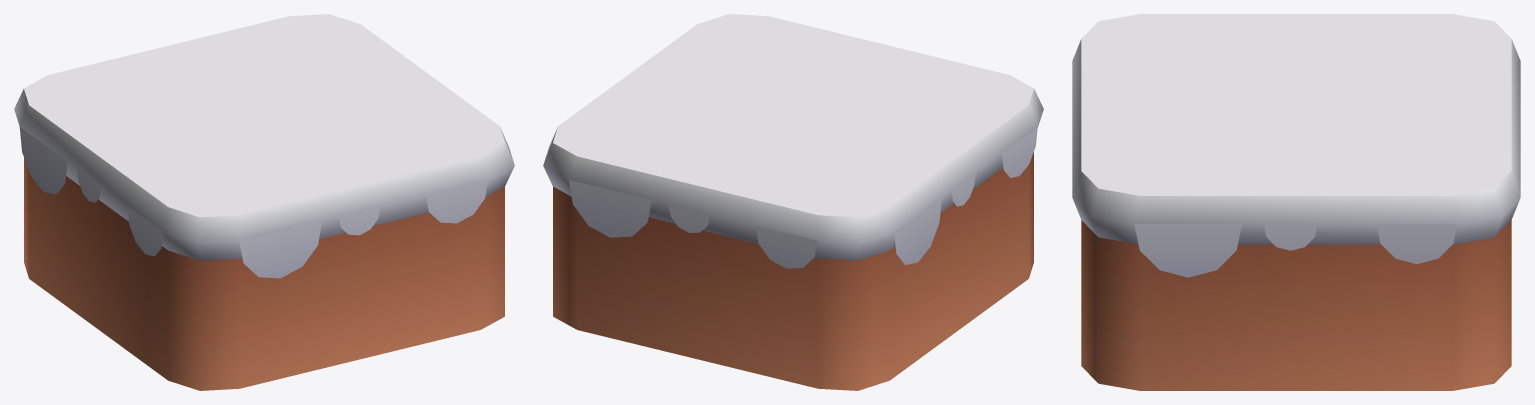
File: kenney-platformer-block-snow-overhang-large.glb
The picture shows the model from 3 angles, left to right: view 1: azimuth 30°, elevation 25°; view 2: azimuth 150°, elevation 25°; view 3: azimuth 270°, elevation 25°; orthographic projection. The views are drawn at different scales.
Visible parts, largest first — view 1: block-snow-overhang-large; view 2: block-snow-overhang-large; view 3: block-snow-overhang-large.
Boxes of the visible parts, x1=… form: block-snow-overhang-large: x1=14, y1=14, x2=514, y2=390; block-snow-overhang-large: x1=543, y1=14, x2=1043, y2=390; block-snow-overhang-large: x1=1072, y1=14, x2=1520, y2=390.
Bounding box in the file's own units: 2.08 × 1 × 2.08.
Materials: 1 (1 with a texture image).
